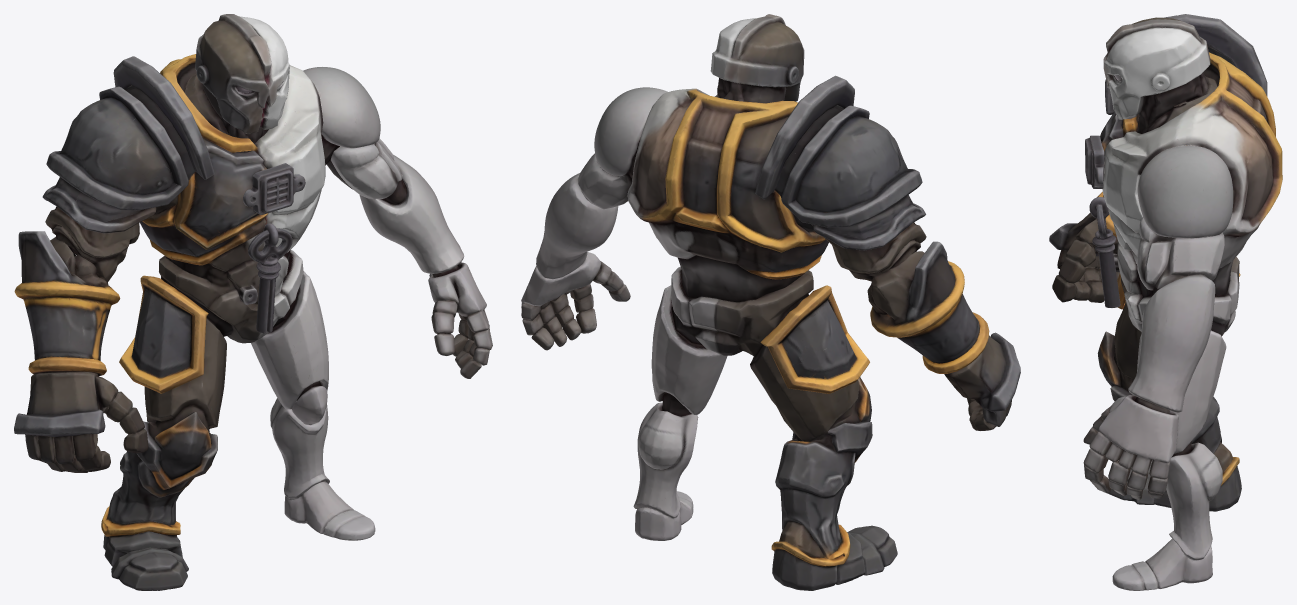
File: twin_warden.glb
The picture shows the model from 3 angles, left to right: view 1: azimuth 30°, elevation 25°; view 2: azimuth 150°, elevation 25°; view 3: azimuth 270°, elevation 25°; orthographic projection. The views are drawn at different scales.
Parts seen in each view (by area): view 1: world; view 2: world; view 3: world.
Boxes of the visible parts, x1,y1,x2,y2 form: world: [14, 14, 492, 590]; world: [521, 14, 1020, 590]; world: [1049, 14, 1282, 590].
Bounding box in the file's own units: 0.9425 × 0.9985 × 0.4099.
Materials: 1 (1 with a texture image).
